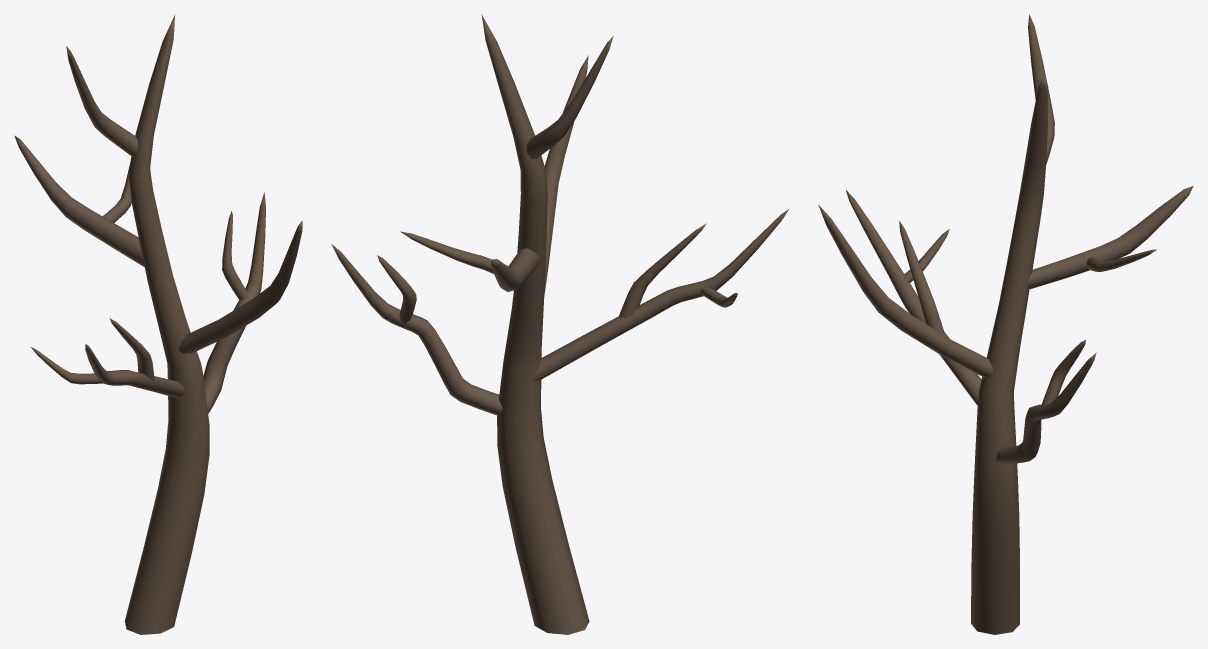
File: deadtree-5.glb
The picture shows the model from 3 angles, left to right: view 1: azimuth 30°, elevation 25°; view 2: azimuth 150°, elevation 25°; view 3: azimuth 270°, elevation 25°; orthographic projection. The views are drawn at different scales.
Parts seen in each view (by area): view 1: DeadTree_5; view 2: DeadTree_5; view 3: DeadTree_5.
Part boxes in pixels (x1,y1,x2,y2): DeadTree_5: (14,15,302,634); DeadTree_5: (331,14,788,634); DeadTree_5: (818,14,1193,634).
Size of the model in its own units: 1.44 by 2.6 by 1.53.
